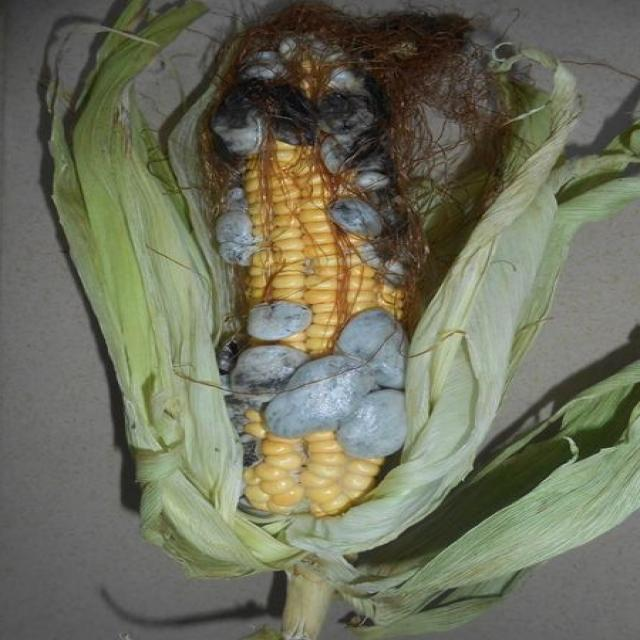Leaf_Scald: (41, 1, 600, 596)
